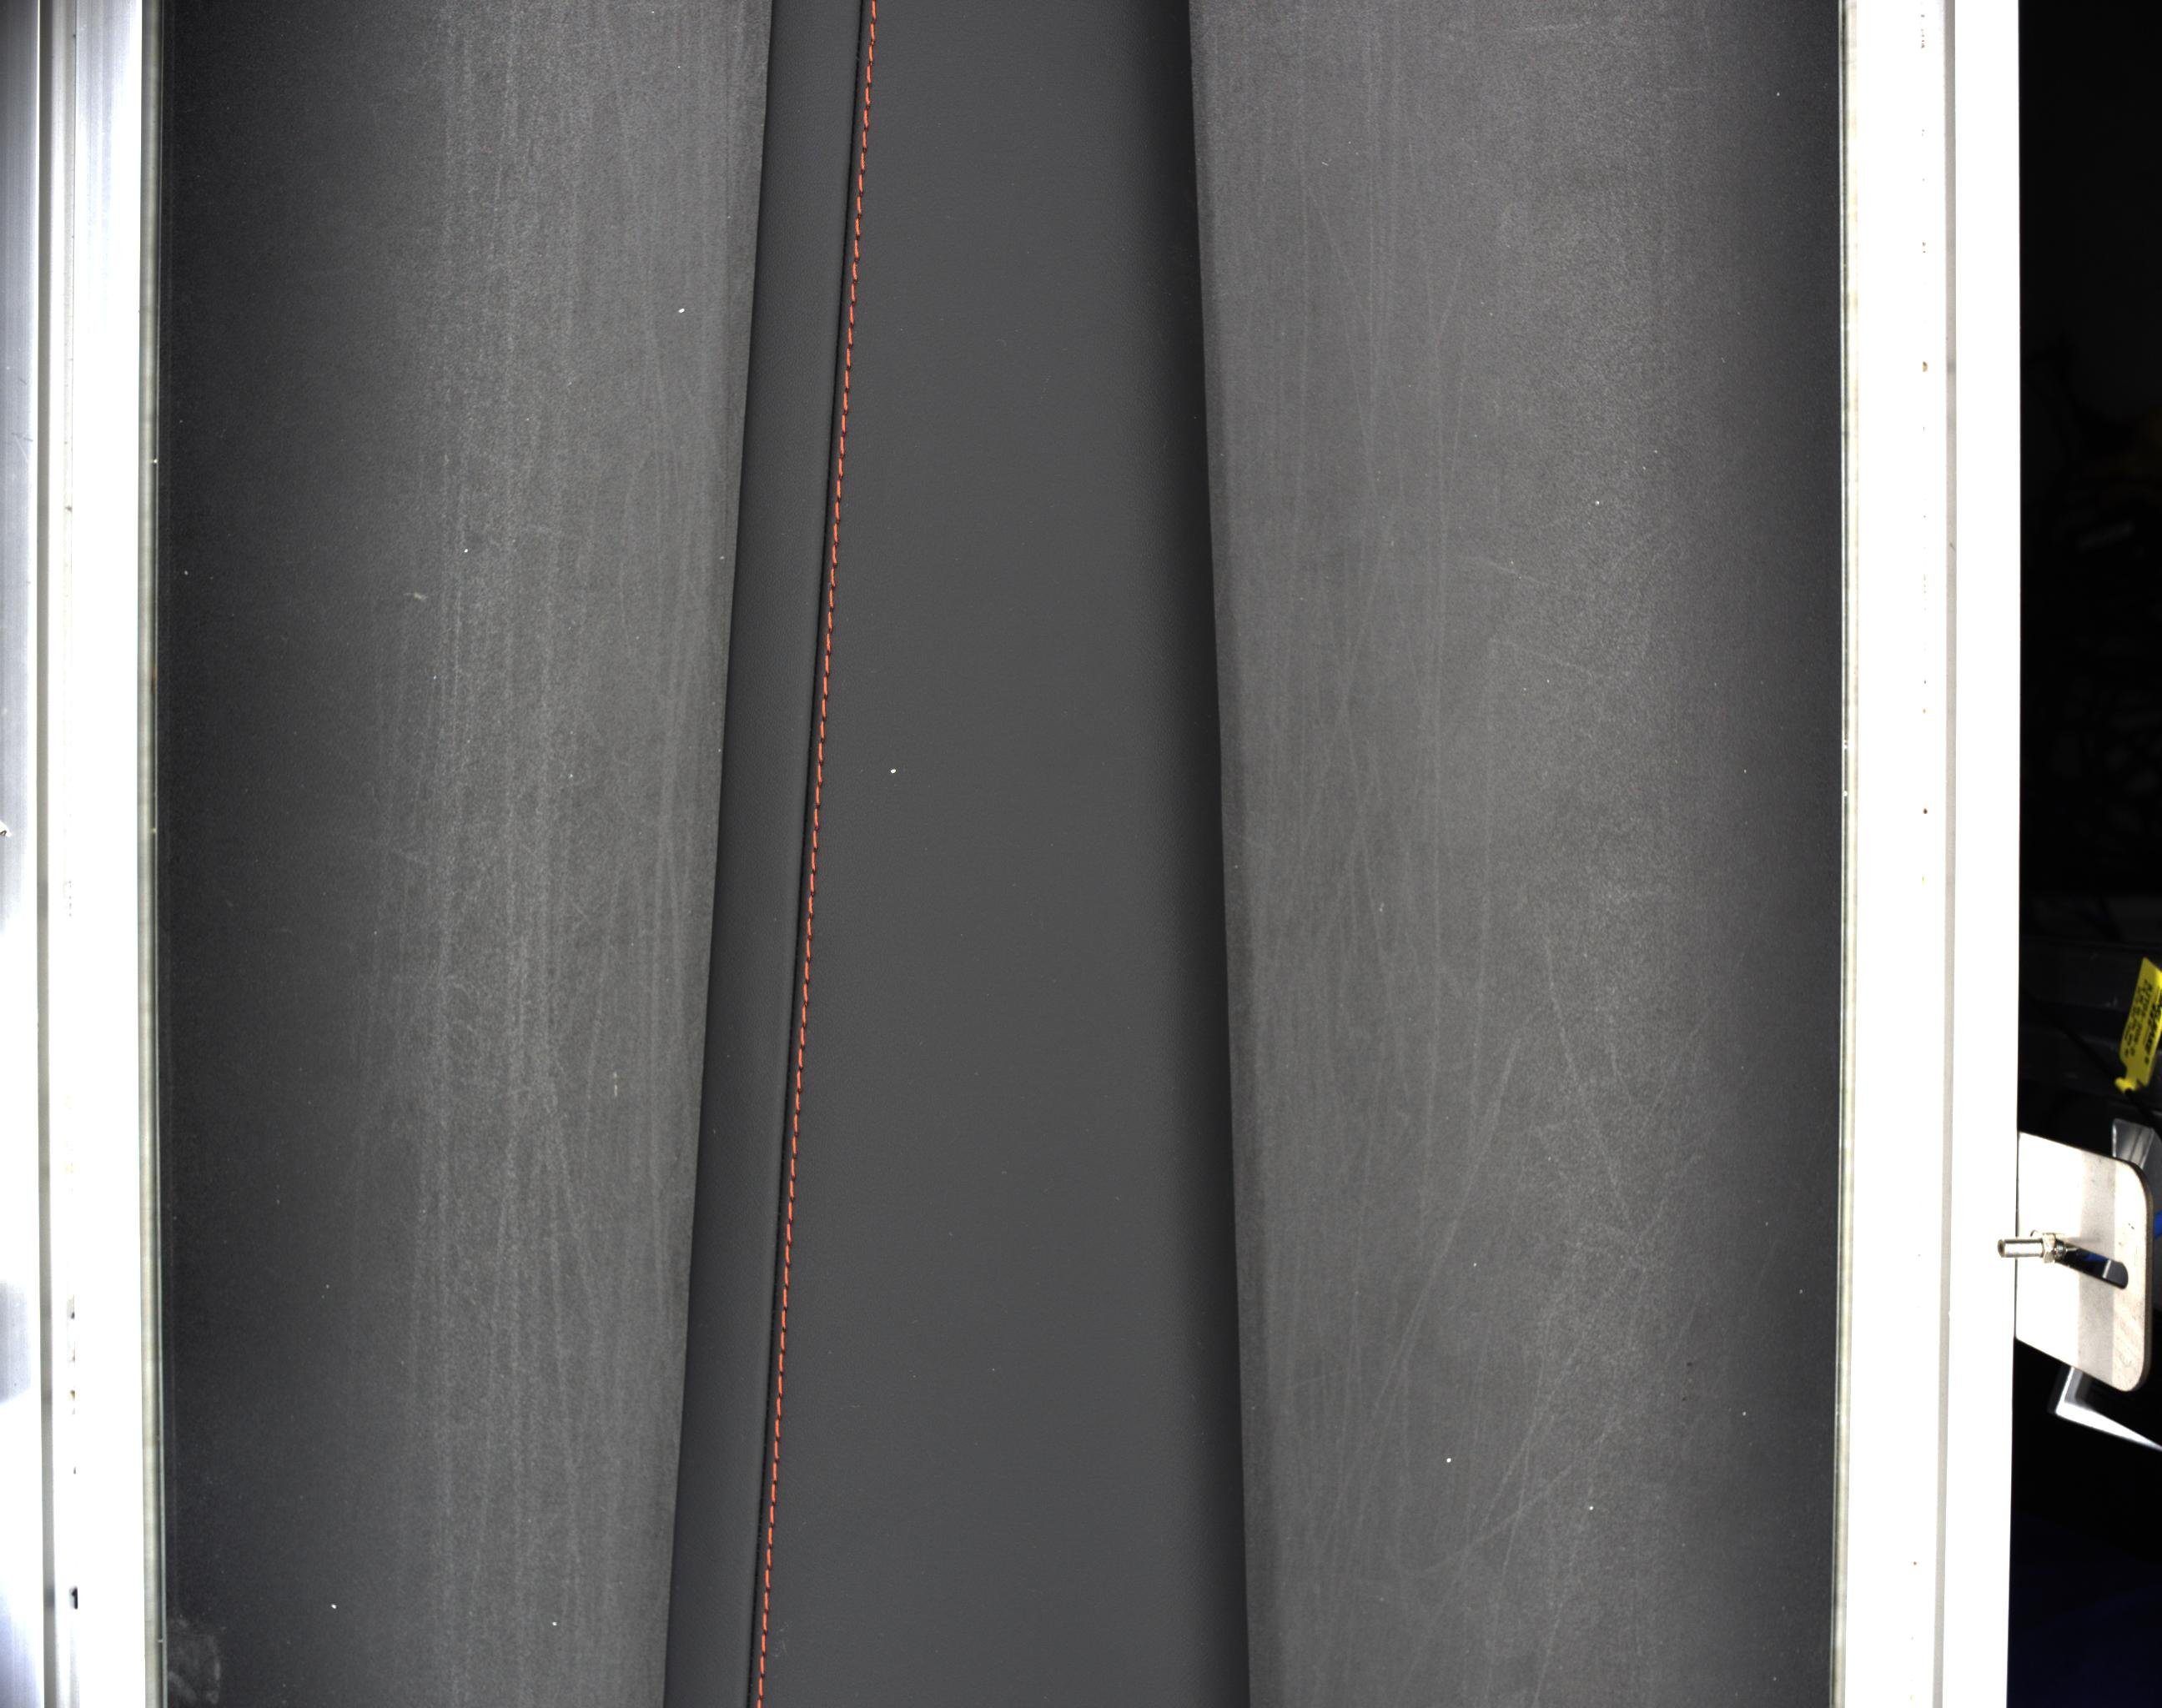vline: (777, 1329, 788, 1352), (813, 786, 823, 807), (811, 807, 821, 829), (797, 1027, 807, 1048), (781, 1266, 791, 1287), (779, 1287, 790, 1306), (869, 19, 877, 42), (853, 216, 862, 239), (849, 260, 858, 283), (839, 413, 848, 435), (837, 434, 846, 456), (835, 456, 844, 479), (820, 697, 828, 720), (818, 720, 827, 743), (814, 762, 823, 785), (809, 850, 818, 872), (793, 1069, 802, 1092), (786, 1178, 795, 1201), (779, 1306, 788, 1329), (770, 1438, 779, 1460), (763, 1547, 772, 1569), (867, 42, 876, 63), (848, 304, 856, 325), (846, 327, 855, 348), (844, 348, 853, 369), (834, 502, 842, 523), (830, 544, 839, 565), (816, 741, 825, 762), (802, 983, 811, 1004), (855, 193, 862, 218), (853, 237, 860, 262), (842, 390, 849, 414), (791, 1111, 798, 1136), (790, 1134, 797, 1159), (860, 130, 869, 149), (805, 895, 814, 915), (802, 960, 811, 980), (783, 1245, 791, 1264), (776, 1352, 784, 1371), (769, 1483, 777, 1503), (765, 1525, 774, 1545), (762, 1569, 770, 1589), (758, 1633, 767, 1652), (870, 0, 877, 23), (863, 84, 870, 107), (862, 107, 869, 130), (858, 149, 865, 172), (856, 172, 863, 195), (835, 479, 842, 502), (832, 521, 839, 544), (828, 586, 835, 609), (797, 1048, 804, 1071), (793, 1090, 800, 1113), (784, 1222, 791, 1245), (777, 1374, 784, 1397), (774, 1418, 781, 1441), (770, 1460, 777, 1483), (844, 369, 851, 390), (827, 611, 834, 632), (825, 632, 832, 653), (823, 655, 830, 676), (821, 676, 828, 697), (811, 829, 818, 850), (807, 872, 814, 893), (805, 916, 813, 937), (804, 939, 811, 960), (800, 1004, 807, 1025), (786, 1202, 793, 1224), (774, 1397, 781, 1418), (762, 1590, 769, 1611), (758, 1654, 765, 1675), (849, 283, 856, 302), (828, 567, 835, 586), (788, 1157, 795, 1176), (767, 1504, 774, 1524), (756, 1676, 763, 1696), (865, 63, 870, 84), (762, 1611, 767, 1631)
